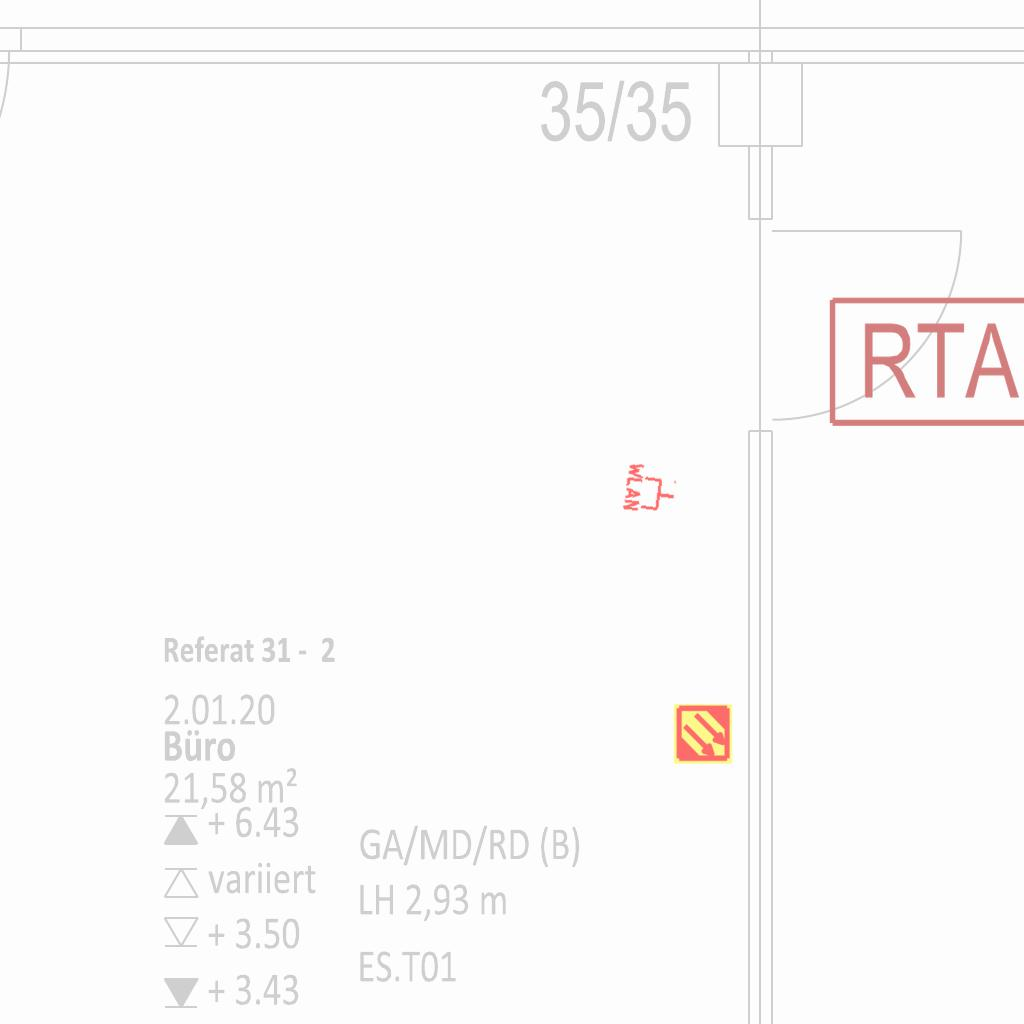ASR_Ansaugrauchmelder: (672, 703, 734, 765)
Ruf-und_Abstelltaster: (822, 293, 1024, 431)
WLAN: (621, 459, 681, 519)
